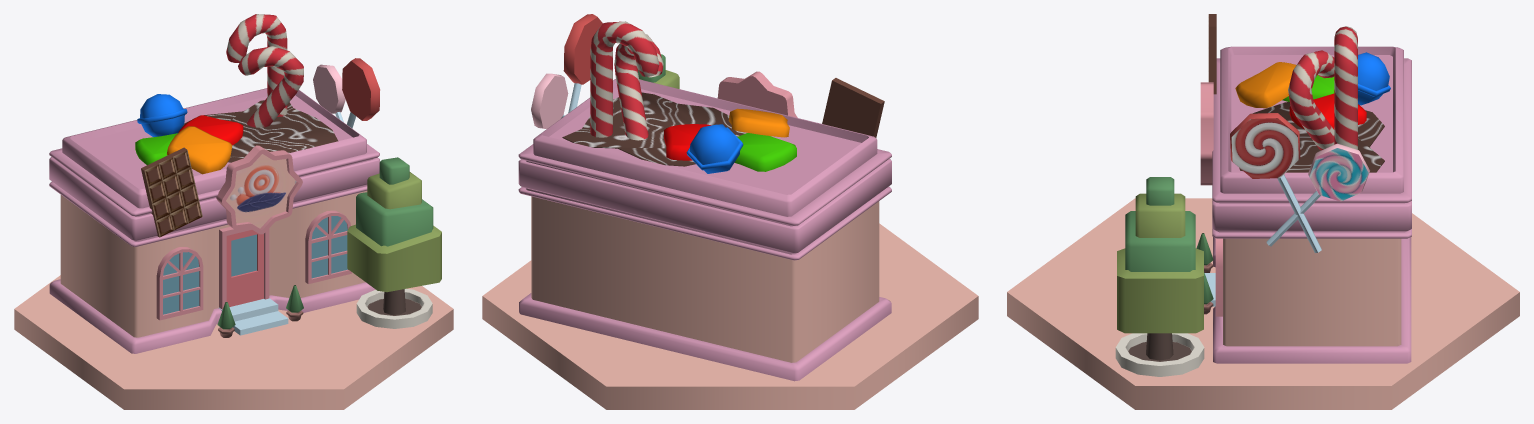
The model's file is HouseCandy.fbx.
3 renders of one model, left to right at view 1: azimuth 30°, elevation 25°; view 2: azimuth 150°, elevation 25°; view 3: azimuth 270°, elevation 25°, orthographic. The views are drawn at different scales.
Parts seen in each view (by area): view 1: HouseCandy; view 2: HouseCandy; view 3: HouseCandy.
Boxes of the visible parts, x1=… form: HouseCandy: x1=14, y1=14, x2=453, y2=409; HouseCandy: x1=482, y1=14, x2=978, y2=409; HouseCandy: x1=1007, y1=14, x2=1519, y2=409.
Size of the model in its own units: 343 by 273 by 396.
Materials: 1 (1 with a texture image).
